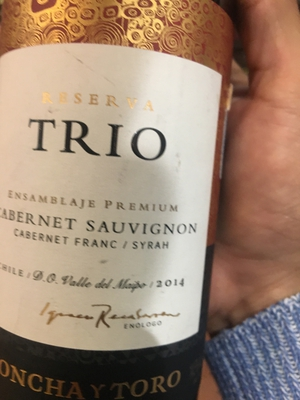trio cabernet sauvignon: (1, 1, 243, 400)
